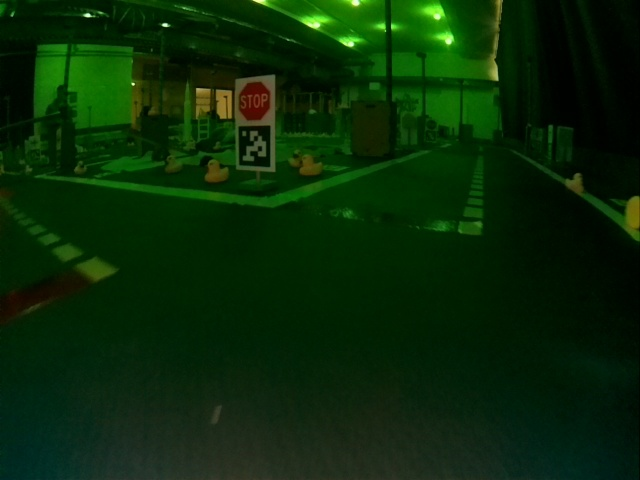Duckie: (205, 159, 228, 181), (301, 155, 322, 176), (565, 172, 586, 191), (164, 155, 182, 173), (288, 149, 300, 165), (75, 161, 86, 175)
QR code: (239, 126, 273, 168)
Stop sign: (237, 79, 273, 119)
